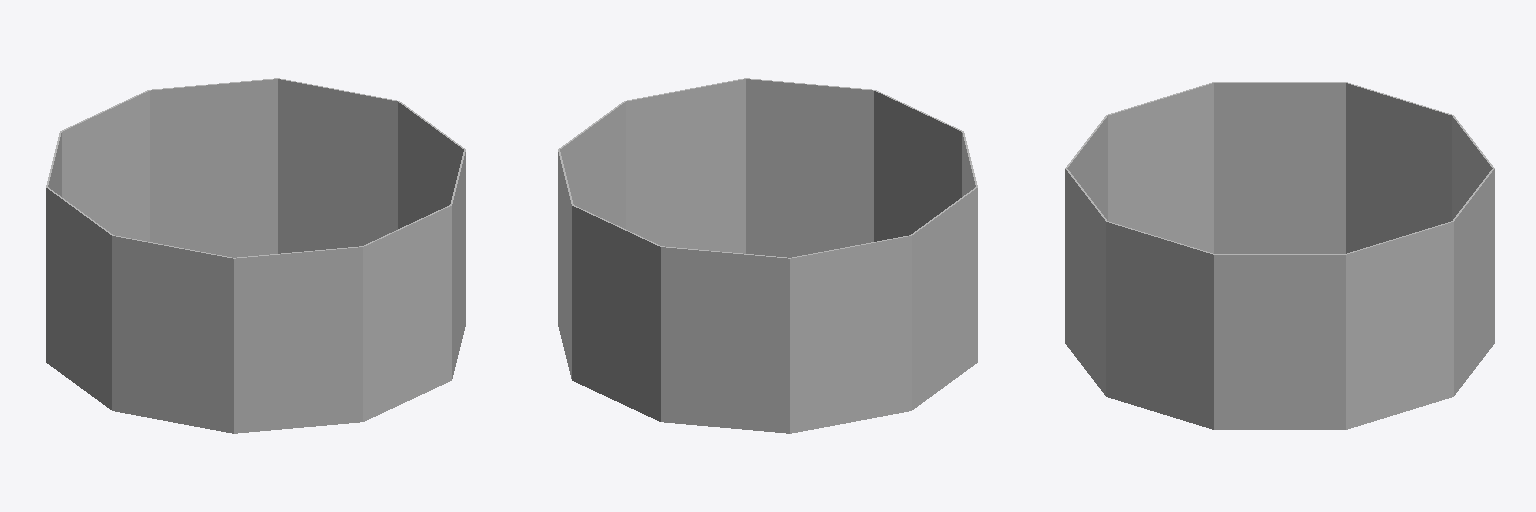
Rendered from test_gate4.obj.
3 renders of one model, left to right at view 1: azimuth 30°, elevation 25°; view 2: azimuth 150°, elevation 25°; view 3: azimuth 270°, elevation 25°, orthographic.
Visible parts, largest first — view 1: Cylinder; view 2: Cylinder; view 3: Cylinder.
Part boxes in pixels (left/top/right/bottom): Cylinder: left=46, top=78, right=465, bottom=433; Cylinder: left=558, top=78, right=977, bottom=433; Cylinder: left=1065, top=82, right=1494, bottom=429.
Bounding box in the file's own units: 1.9 × 0.9 × 2.